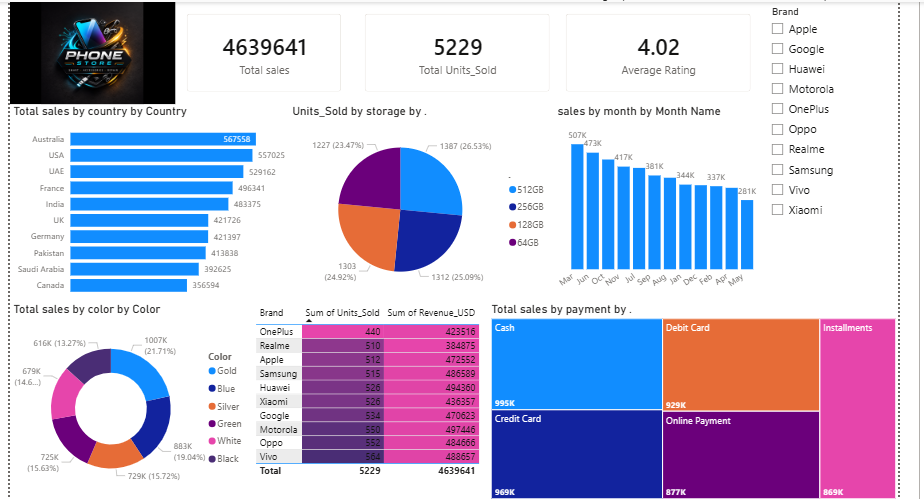

This screenshot's page, from the dashboard's own definition file:
{"tool":"powerbi","page":{"name":"Page 1","canvas":[1280,720],"ordinal":0},"visuals":[{"type":"cardVisual","fields":{"Data":["Sum(synthetic_mobile_sales_2025.Revenue_USD)"]},"box":[237.6,0,256.3,146.9],"z":0},{"type":"cardVisual","fields":{"Data":["Sum(synthetic_mobile_sales_2025.Units_Sold)"]},"box":[493.9,0,301,146.9],"z":1000},{"type":"cardVisual","fields":{"Data":["Avg(synthetic_mobile_sales_2025.Customer_Rating)"]},"box":[783.4,0,301,146.9],"z":2000},{"type":"clusteredBarChart","fields":{"Category":["synthetic_mobile_sales_2025.Country"],"Y":["Sum(synthetic_mobile_sales_2025.Revenue_USD)"]},"box":[0,146.9,401.8,285.1],"z":3000},{"type":"donutChart","fields":{"Y":["Sum(synthetic_mobile_sales_2025.Revenue_USD)"],"Category":["synthetic_mobile_sales_2025.Color"]},"box":[0,432,348.5,288],"z":4000},{"type":"tableEx","fields":{"Values":["synthetic_mobile_sales_2025.Brand","Sum(synthetic_mobile_sales_2025.Units_Sold)","Sum(synthetic_mobile_sales_2025.Revenue_USD)"]},"box":[348.5,432,339.8,288],"z":5000},{"type":"treemap","fields":{"Group":["synthetic_mobile_sales_2025.Payment_Method"],"Values":["Sum(synthetic_mobile_sales_2025.Revenue_USD)"]},"box":[688.3,432,591.8,288],"z":6000},{"type":"pieChart","fields":{"Category":["synthetic_mobile_sales_2025.Storage"],"Y":["Sum(synthetic_mobile_sales_2025.Units_Sold)"]},"box":[401.8,146.9,381.6,285.1],"z":7000},{"type":"columnChart","fields":{"Category":["DateTable.Month Name"],"Y":["Sum(synthetic_mobile_sales_2025.Revenue_USD)"]},"box":[783,147,301,285],"z":8000},{"type":"slicer","fields":{"Values":["synthetic_mobile_sales_2025.Brand"]},"box":[1084.3,0,195.8,442.1],"z":9000},{"type":"image","box":[0,0,237.6,146.9],"z":10000}]}

Visuals, with their boxes on the page's 1280x720 design canvas (x1, y1, x2, y2). These are canvas units, not pixel positions in the 924x499 screenshot, which may show the page scaled, cropped or inside an application window:
cardVisual - Sum(synthetic_mobile_sales_2025.Revenue_USD): 238:0:494:147
cardVisual - Sum(synthetic_mobile_sales_2025.Units_Sold): 494:0:795:147
cardVisual - Avg(synthetic_mobile_sales_2025.Customer_Rating): 783:0:1084:147
clusteredBarChart - synthetic_mobile_sales_2025.Country x Sum(synthetic_mobile_sales_2025.Revenue_USD): 0:147:402:432
donutChart - Sum(synthetic_mobile_sales_2025.Revenue_USD) x synthetic_mobile_sales_2025.Color: 0:432:348:720
tableEx - synthetic_mobile_sales_2025.Brand x Sum(synthetic_mobile_sales_2025.Units_Sold): 348:432:688:720
treemap - synthetic_mobile_sales_2025.Payment_Method x Sum(synthetic_mobile_sales_2025.Revenue_USD): 688:432:1280:720
pieChart - synthetic_mobile_sales_2025.Storage x Sum(synthetic_mobile_sales_2025.Units_Sold): 402:147:783:432
columnChart - DateTable.Month Name x Sum(synthetic_mobile_sales_2025.Revenue_USD): 783:147:1084:432
slicer - synthetic_mobile_sales_2025.Brand: 1084:0:1280:442
image: 0:0:238:147
